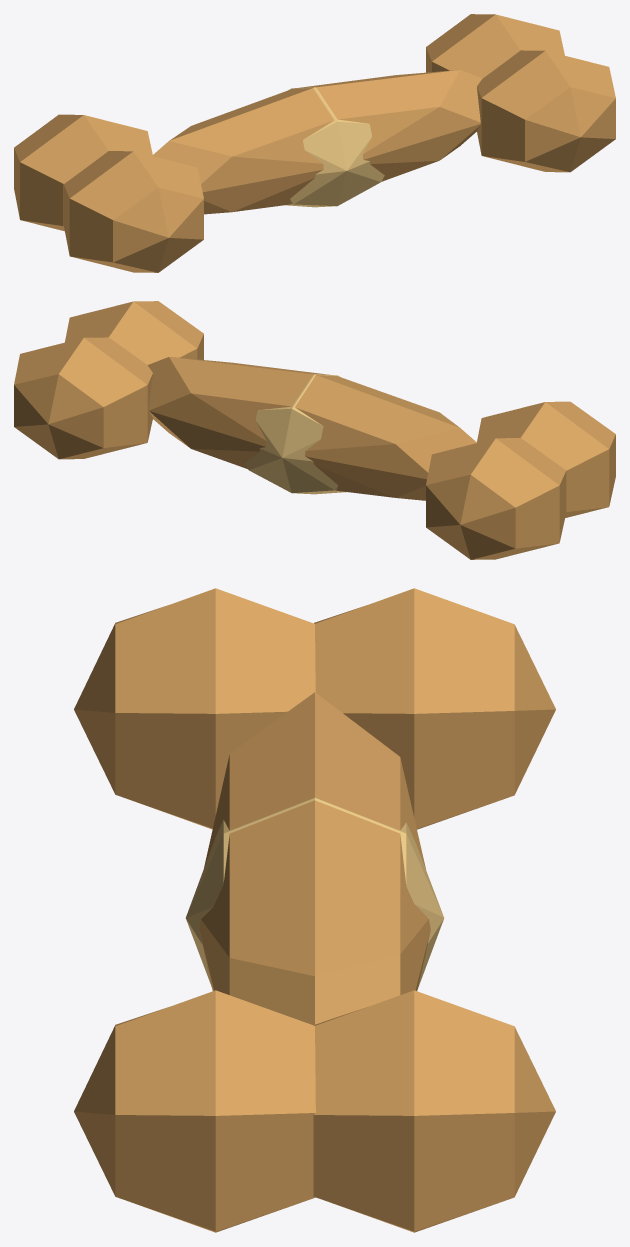
Rendered from chew_toy.glb.
The picture shows the model from 3 angles, top to bottom: view 1: azimuth 30°, elevation 25°; view 2: azimuth 150°, elevation 25°; view 3: azimuth 270°, elevation 25°; orthographic projection. The views are drawn at different scales.
Visible parts, largest first — view 1: chew_toy; view 2: chew_toy; view 3: chew_toy.
Boxes of the visible parts, x1,y1,x2,y2 form: chew_toy: (14, 14, 615, 272); chew_toy: (14, 301, 615, 559); chew_toy: (74, 588, 555, 1232).
Bounding box in the file's own units: 0.1493 × 0.0329 × 0.0578.
